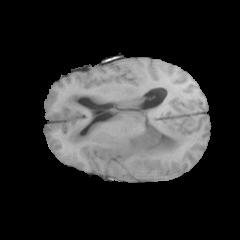glioma: (60, 90, 186, 162)
